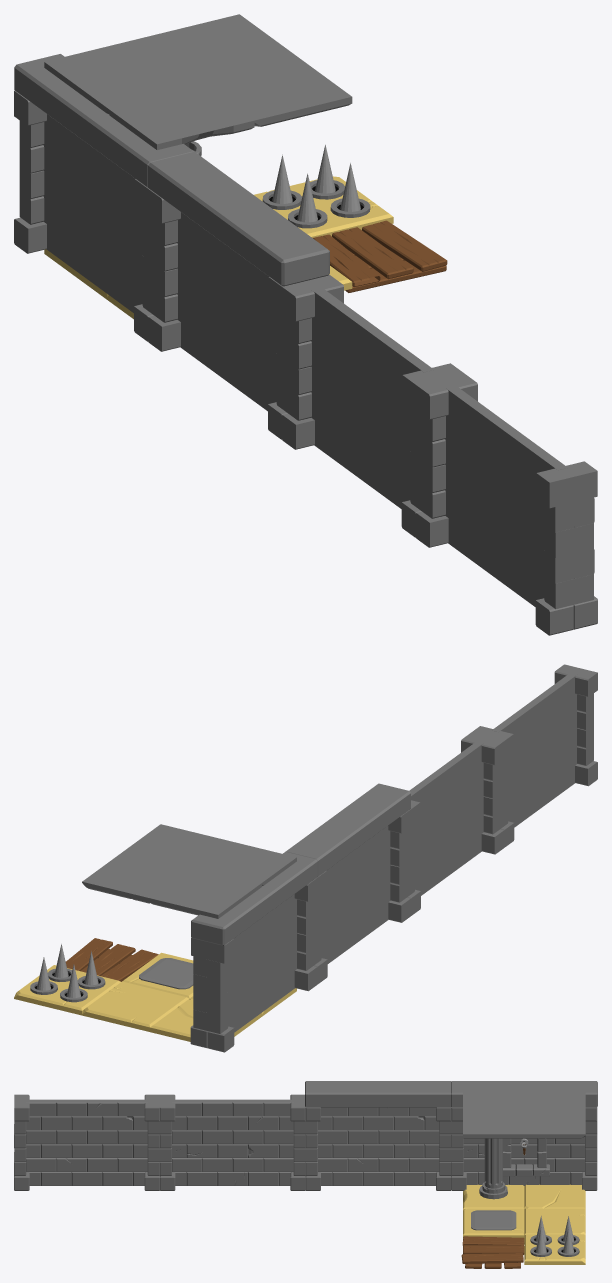
File: Dungeon 1.fbx
3 views of the same model, one above another, from view 1: azimuth 30°, elevation 25°; view 2: azimuth 150°, elevation 25°; view 3: azimuth 270°, elevation 25° (orthographic). The views are drawn at different scales.
Visible parts, largest first — view 1: wallupper2.001, wallupper2, wallupper1, wallupper1.001, ceeling1, ceeling2, ceeling3, WoodenPlatform, ceeling4, Spikes, Tile4.001, SpikeBase; view 2: wallupper1, wallupper2, wallupper2.001, wallupper1.001, ceeling3, Tile4, ceeling4, ceeling1, ceeling2, WoodenPlatform, Tile4.001, Pressure Plate (+4 smaller); view 3: wallupper2, wallupper2.001, wallupper1.001, wallupper1, WoodenPlatform, ceeling2, ceeling4, ceeling3, ceeling1, Tile4, Tile2, Circle (+7 smaller).
Boxes of the visible parts, left/top/right/bottom form: wallupper2.001: left=415, top=373, right=597, bottom=635; wallupper2: left=148, top=152, right=329, bottom=439; wallupper1: left=14, top=54, right=194, bottom=341; wallupper1.001: left=282, top=275, right=463, bottom=537; ceeling1: left=100, top=79, right=254, bottom=149; ceeling2: left=199, top=55, right=352, bottom=126; ceeling3: left=44, top=38, right=197, bottom=108; WoodenPlatform: left=313, top=220, right=447, bottom=292; ceeling4: left=142, top=14, right=295, bottom=79; Spikes: left=272, top=144, right=360, bottom=222; Tile4.001: left=254, top=176, right=393, bottom=237; SpikeBase: left=262, top=180, right=370, bottom=228; wallupper1: left=190, top=852, right=317, bottom=1052; wallupper2: left=285, top=783, right=411, bottom=983; wallupper2.001: left=471, top=664, right=597, bottom=847; wallupper1.001: left=407, top=733, right=504, bottom=915; ceeling3: left=150, top=869, right=257, bottom=918; Tile4: left=82, top=981, right=188, bottom=1031; ceeling4: left=82, top=853, right=188, bottom=903; ceeling1: left=190, top=841, right=296, bottom=889; ceeling2: left=122, top=824, right=228, bottom=869; WoodenPlatform: left=65, top=938, right=158, bottom=981; Tile4.001: left=14, top=965, right=120, bottom=1015; Pressure Plate: left=139, top=958, right=193, bottom=989; wallupper2: left=305, top=1081, right=451, bottom=1190; wallupper2.001: left=14, top=1094, right=159, bottom=1190; wallupper1.001: left=160, top=1094, right=305, bottom=1190; wallupper1: left=451, top=1081, right=597, bottom=1190; WoodenPlatform: left=461, top=1236, right=524, bottom=1268; ceeling2: left=463, top=1108, right=524, bottom=1138; ceeling4: left=524, top=1108, right=585, bottom=1138; ceeling3: left=524, top=1082, right=585, bottom=1108; ceeling1: left=463, top=1082, right=524, bottom=1108; Tile4: left=524, top=1208, right=585, bottom=1234; Tile2: left=524, top=1184, right=585, bottom=1208; Circle: left=479, top=1138, right=507, bottom=1199.
Bounding box in the file's own units: 6.41 × 3.91 × 19.03.
